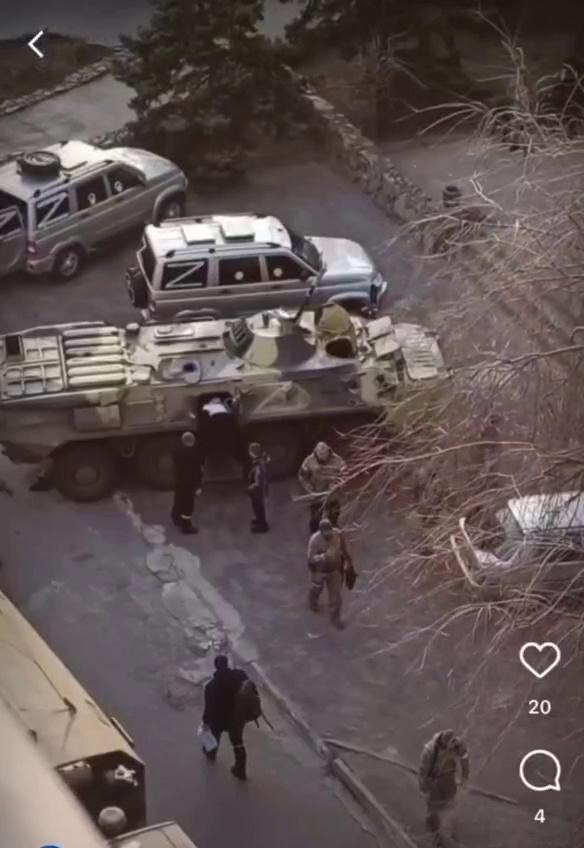car: (125, 213, 388, 324), (0, 137, 191, 281)
person: (198, 654, 262, 780), (306, 520, 360, 630), (419, 730, 470, 832), (298, 441, 348, 534), (169, 430, 204, 534), (247, 443, 272, 534)
tank: (0, 302, 456, 503)
